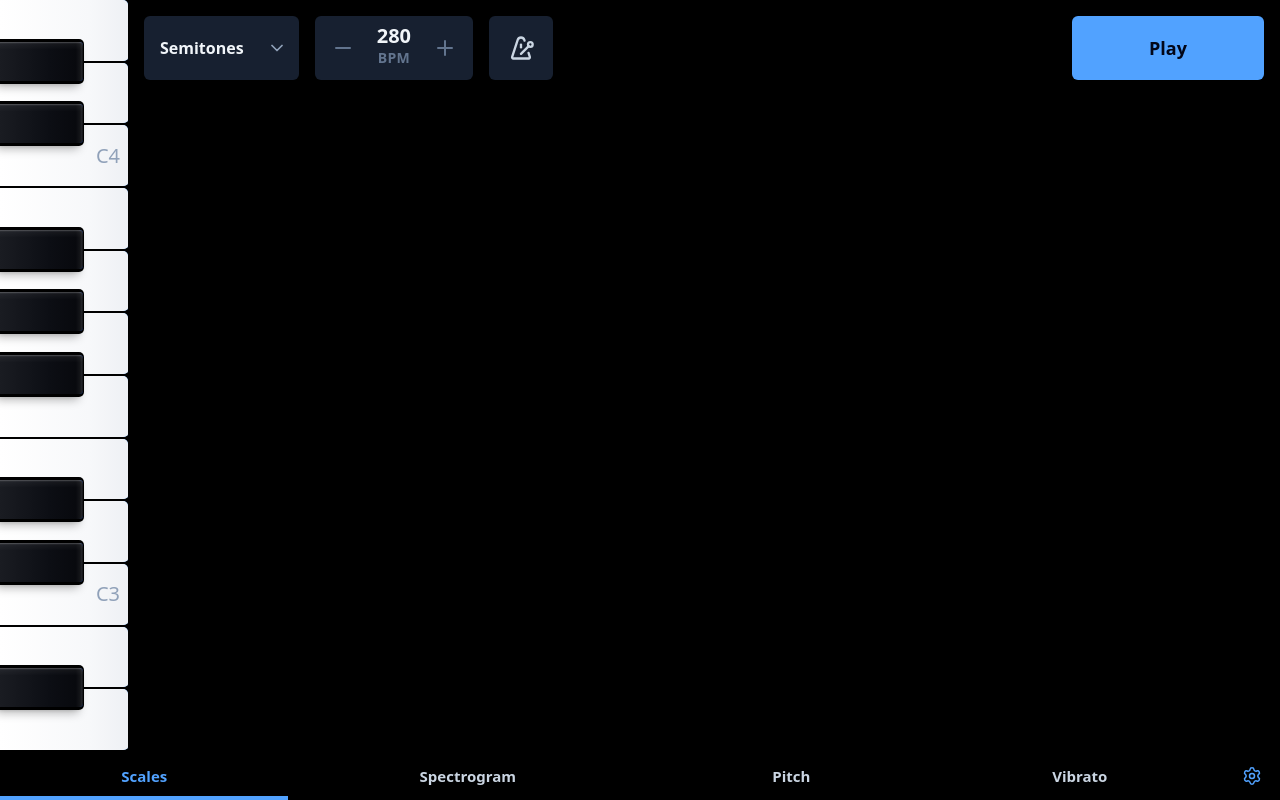
it: Scales page › The scales minimum note can be changed from settings
Click the button named "Open settings" at [1252, 776], box [1232,752,1272,799]
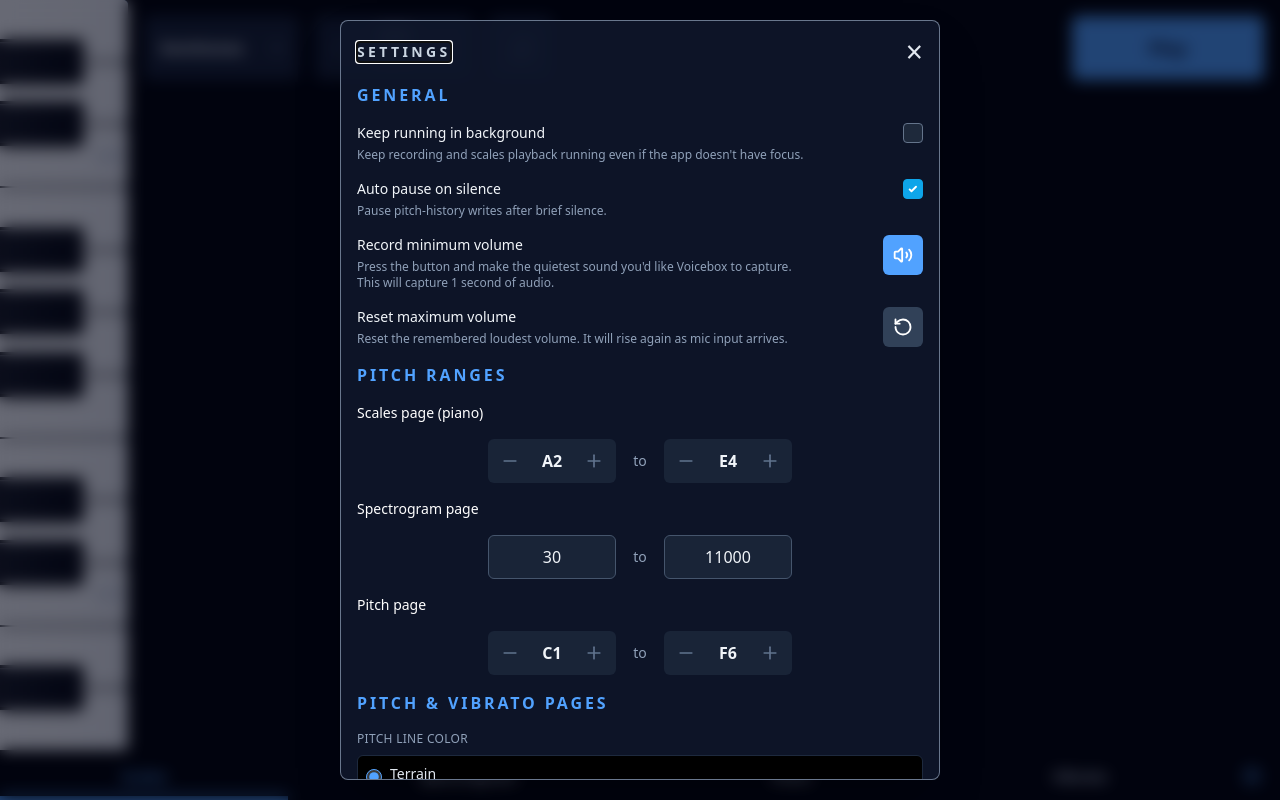
Result: the button "Settings" is shown at [357,42,451,62]
Click the button named "Increase scales minimum" at [594, 461], box [572,439,616,483]
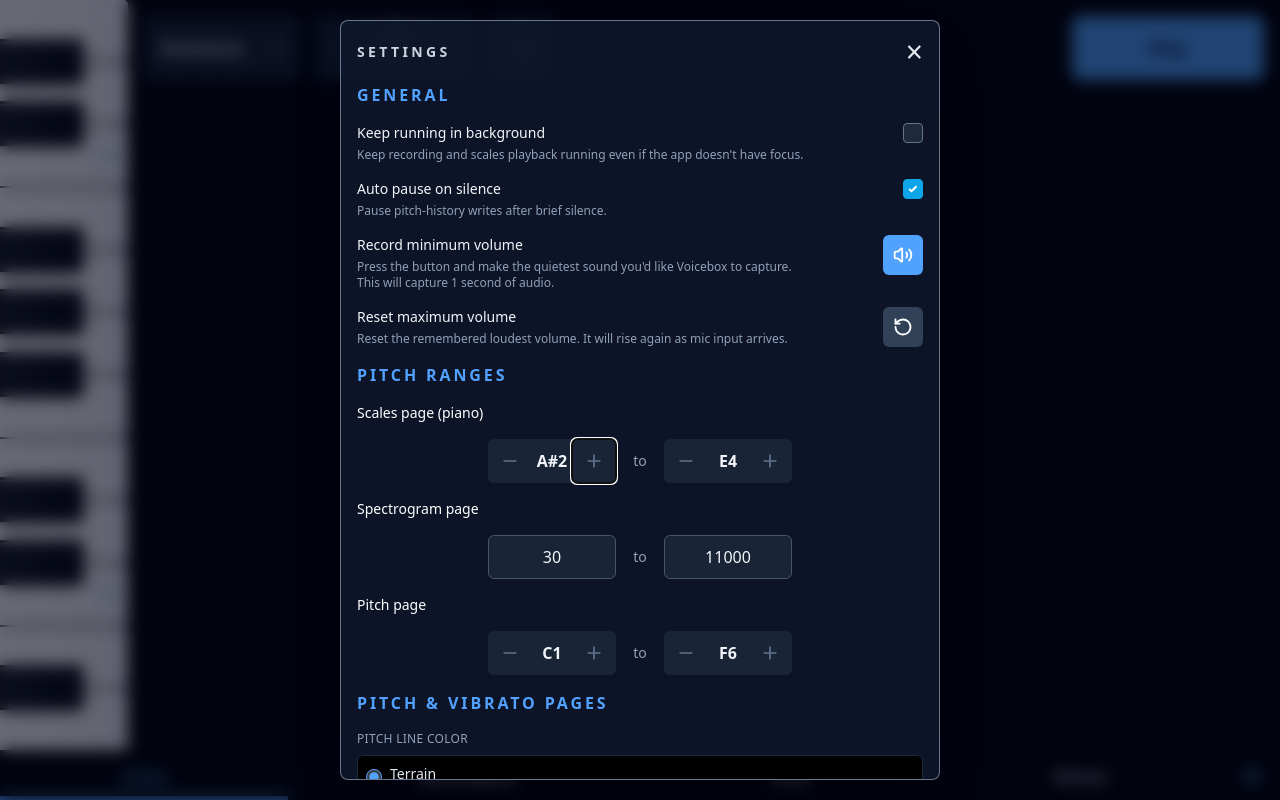
Result: the text "A#2" is shown at [537,450,567,472]
